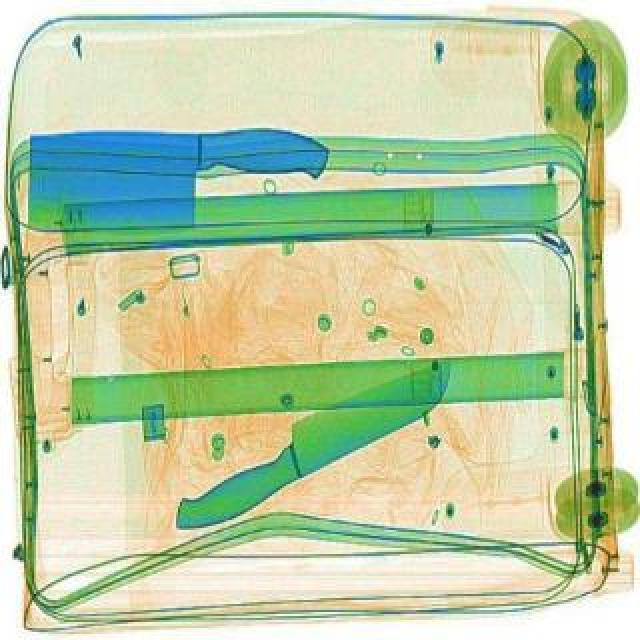knife: (152, 334, 470, 554), (22, 116, 332, 244)
